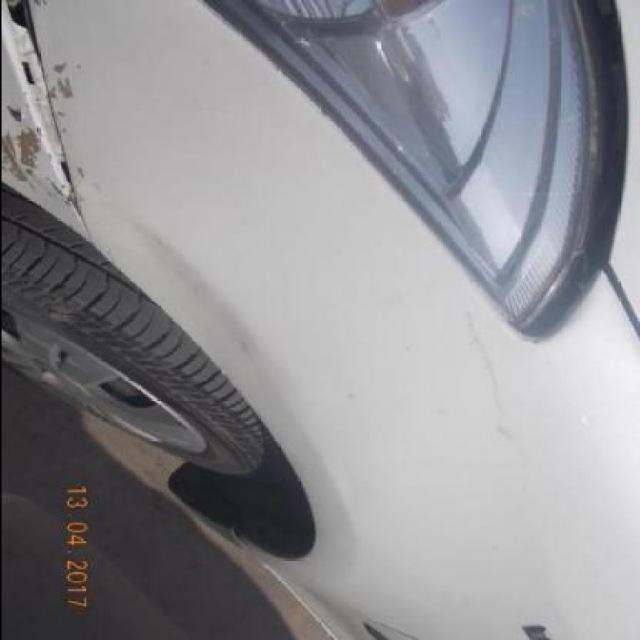damage: (1, 2, 75, 220), (448, 311, 517, 447), (0, 126, 48, 192), (42, 58, 78, 104), (56, 165, 85, 215)
